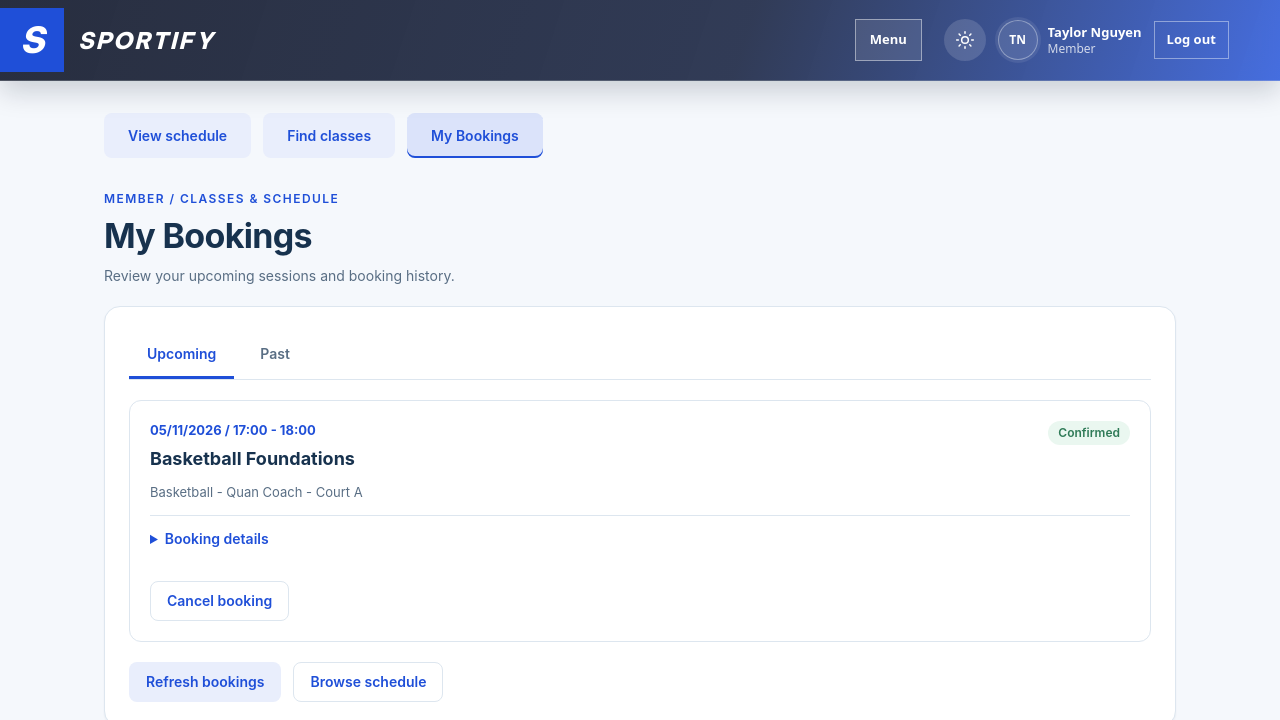
Test case: FE-09 member booking screens › loads Upcoming and Past from the matching backend filter and shows the cancelling actor
Expected: the heading "Basketball Foundations" is shown, x1=150 y1=448 x2=355 y2=470
Step 1. Click the tab "Past" → coordinates (275, 355), box x1=242 y1=331 x2=308 y2=379
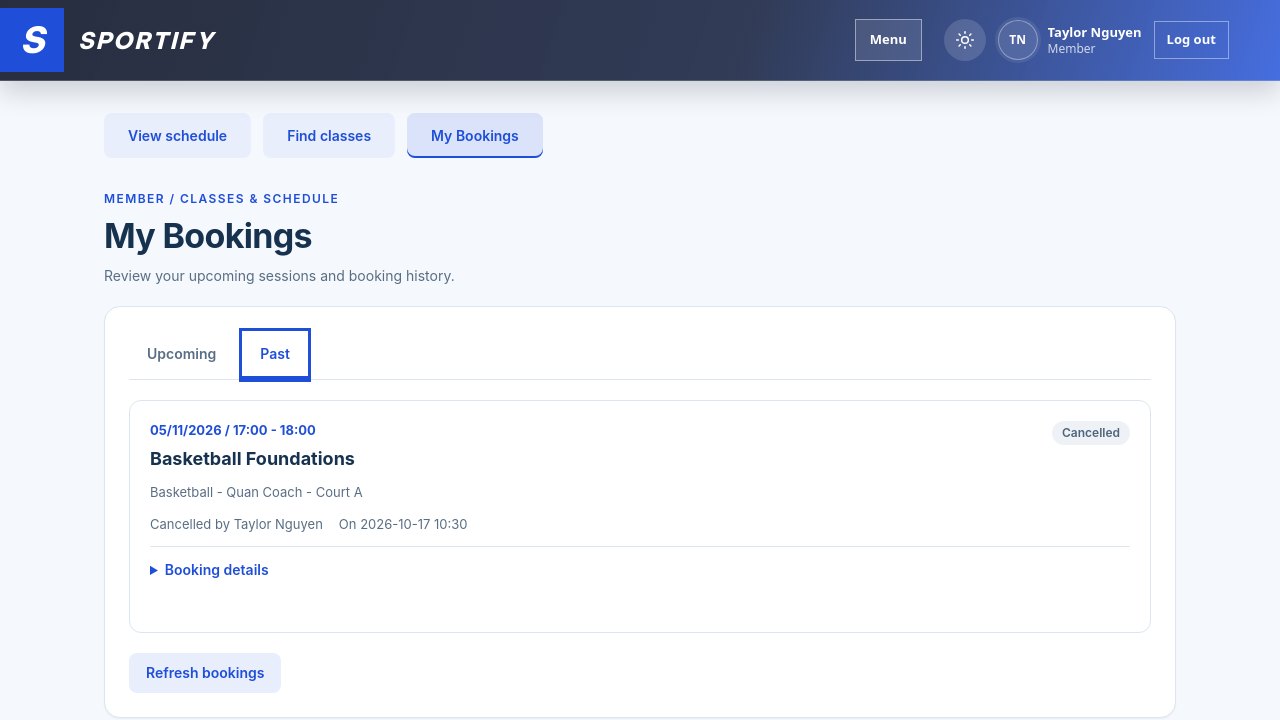
Expected: the text "Cancelled by Taylor Nguyen" is shown, x1=150 y1=515 x2=323 y2=534
